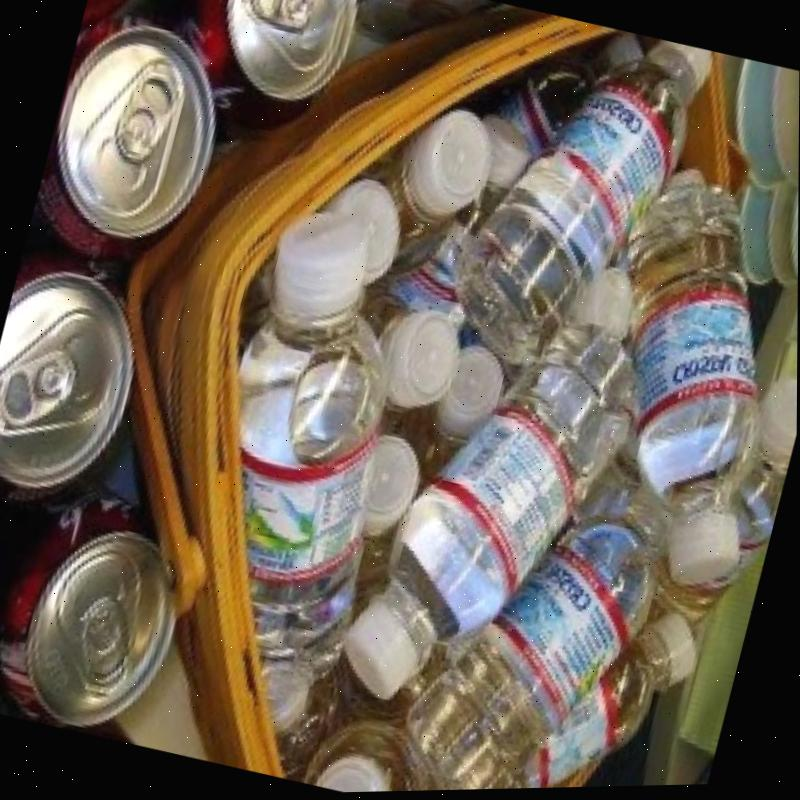botella: (333, 293, 654, 742), (158, 198, 446, 693), (437, 5, 718, 384), (548, 172, 799, 595), (392, 444, 684, 793), (486, 582, 710, 791), (355, 90, 502, 291), (301, 702, 440, 795), (313, 174, 413, 303), (367, 297, 471, 421), (433, 338, 515, 451), (354, 433, 428, 544)
